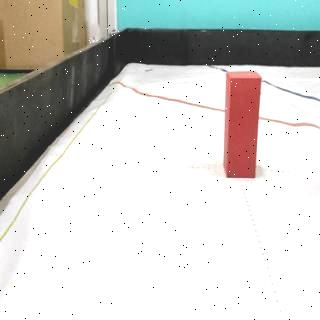redbox: (224, 70, 262, 177)
